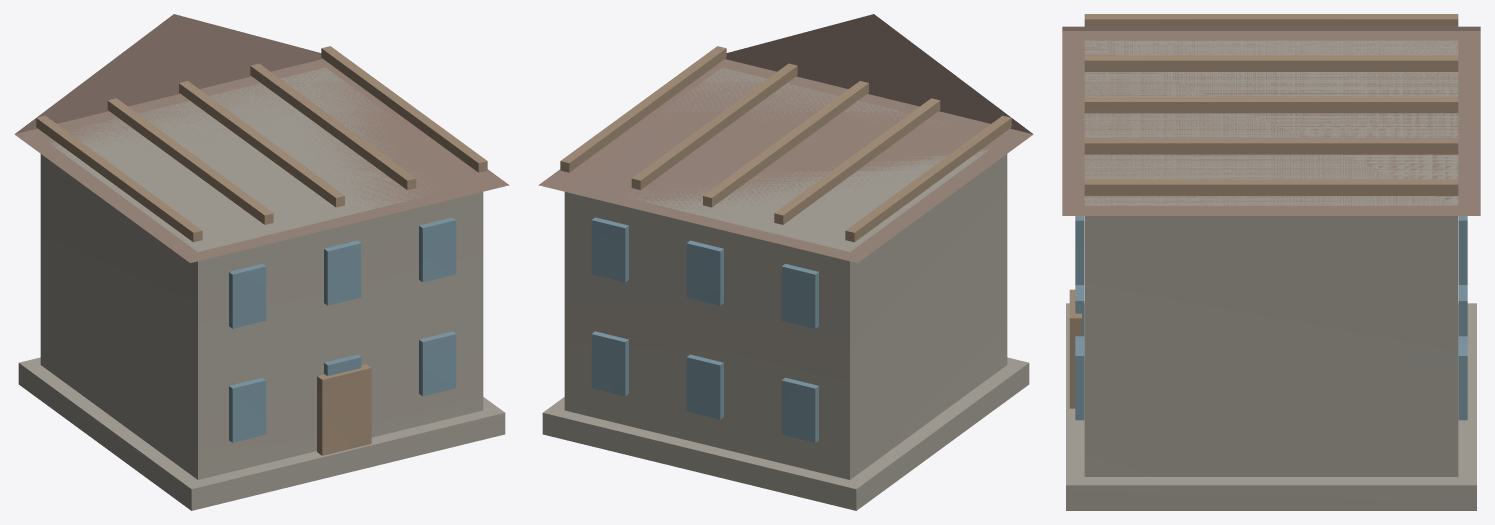
Rendered from greenhouse-04.glb.
3 renders of one model, left to right at view 1: azimuth 30°, elevation 25°; view 2: azimuth 150°, elevation 25°; view 3: azimuth 270°, elevation 25°, orthographic. The views are drawn at different scales.
Visible parts, largest first — view 1: world; view 2: world; view 3: world.
Part boxes in pixels (x1,y1,x2,y2): world: [14, 14, 509, 510]; world: [538, 14, 1033, 510]; world: [1062, 14, 1480, 510].
Size of the model in its own units: 1.23 by 1.22 by 1.18.
